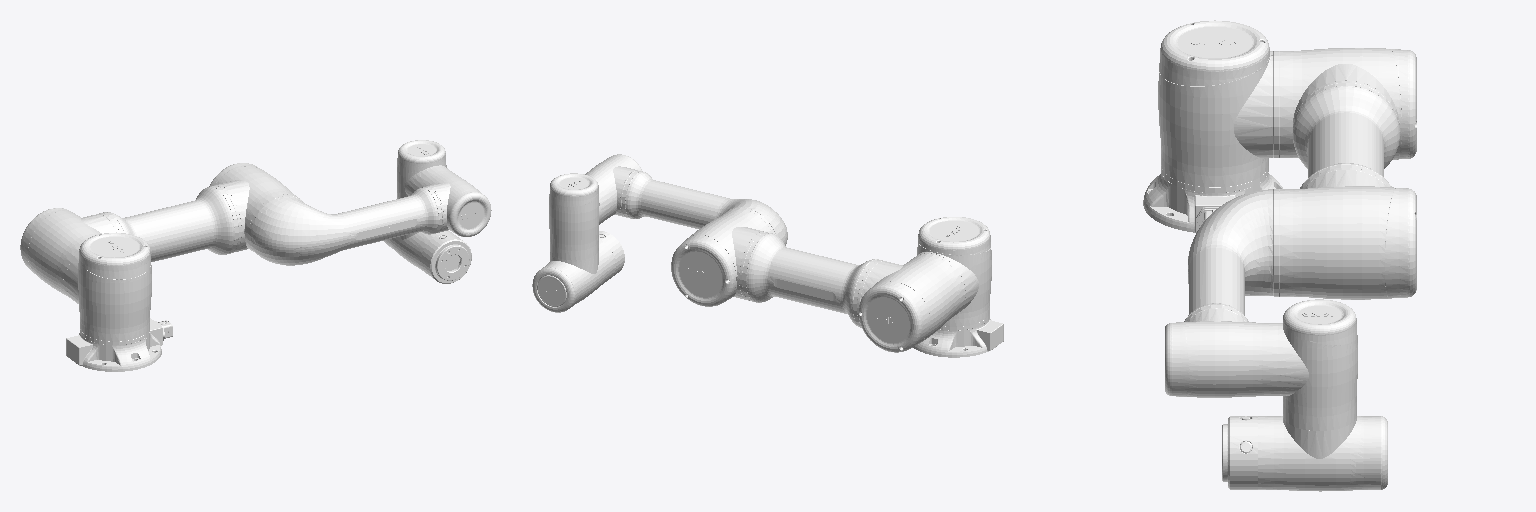
robot.urdf — jaka_description:
<?xml version="1.0" encoding="utf-8"?>
<!-- This URDF was automatically created by SolidWorks to URDF Exporter! Originally created by [author] ([email redacted]) 
     Commit Version: 1.5.1-0-g916b5db  Build Version: 1.5.7152.31018
     For more information, please see http://wiki.ros.org/sw_urdf_exporter -->
<robot
  name="jaka_description">
  <link
    name="base_link">
    <inertial>
      <origin
        xyz="0.0078045 0.02052 0.0017471"
        rpy="0 0 0" />
      <mass
        value="0.51461" />
      <inertia
        ixx="0.00062136"
        ixy="3.2169E-06"
        ixz="-3.6994E-09"
        iyy="0.0013529"
        iyz="1.2577E-10"
        izz="0.00086645" />
    </inertial>
    <visual>
      <origin
        xyz="0 0 0"
        rpy="0 0 0" />
      <geometry>
        <mesh
          filename="package://jaka_description/meshes/base_link.STL" />
      </geometry>
      <material
        name="">
        <color
          rgba="1 1 1 1" />
      </material>
    </visual>
    <collision>
      <origin
        xyz="0 0 0"
        rpy="0 0 0" />
      <geometry>
        <mesh
          filename="package://jaka_description/meshes/base_link.STL" />
      </geometry>
    </collision>
  </link>
  <link
    name="link1">
    <inertial>
      <origin
        xyz="0.0033217 0.078637 -9.9561E-07"
        rpy="0 0 0" />
      <mass
        value="1.9281" />
      <inertia
        ixx="0.0054895"
        ixy="1.9288E-06"
        ixz="-8.0735E-09"
        iyy="0.0038887"
        iyz="-1.0336E-08"
        izz="0.0056434" />
    </inertial>
    <visual>
      <origin
        xyz="0 0 0"
        rpy="0 0 0" />
      <geometry>
        <mesh
          filename="package://jaka_description/meshes/link1.STL" />
      </geometry>
      <material
        name="">
        <color
          rgba="1 1 1 1" />
      </material>
    </visual>
    <collision>
      <origin
        xyz="0 0 0"
        rpy="0 0 0" />
      <geometry>
        <mesh
          filename="package://jaka_description/meshes/link1.STL" />
      </geometry>
    </collision>
  </link>
  <joint
    name="joint1"
    type="continuous">
    <origin
      xyz="0.0068395 -0.0017473 0.040967"
      rpy="1.5708 0 1.5708" />
    <parent
      link="base_link" />
    <child
      link="link1" />
    <axis
      xyz="0 1 0" />
  </joint>
  <link
    name="link2">
    <inertial>
      <origin
        xyz="0.180000209977346 0.0790053241117423 1.81612678296084E-06"
        rpy="0 0 0" />
      <mass
        value="5.46194601044026" />
      <inertia
        ixx="0.012915357360266"
        ixy="-3.31771617532355E-08"
        ixz="-9.02794658605086E-09"
        iyy="0.0177711235371075"
        iyz="-2.29869349851466E-09"
        izz="0.0212789850441894" />
    </inertial>
    <visual>
      <origin
        xyz="0 0 0"
        rpy="0 0 0" />
      <geometry>
        <mesh
          filename="package://jaka_description/meshes/link2.STL" />
      </geometry>
      <material
        name="">
        <color
          rgba="1 1 1 1" />
      </material>
    </visual>
    <collision>
      <origin
        xyz="0 0 0"
        rpy="0 0 0" />
      <geometry>
        <mesh
          filename="package://jaka_description/meshes/link2.STL" />
      </geometry>
    </collision>
  </link>
  <joint
    name="joint2"
    type="continuous">
    <origin
      xyz="0.06407 0.08015 0"
      rpy="-3.1416 -1.5708 1.5708" />
<!--       rpy="-3.1416 0.61321 1.5708"-->
    <parent
      link="link1" />
    <child
      link="link2" />
    <axis
      xyz="0 -1 0" />
  </joint>
  <link
    name="link3">
    <inertial>
      <origin
        xyz="0.154631179365296 0.051491742581724 -9.87671775865007E-07"
        rpy="0 0 0" />
      <mass
        value="2.10990539238288" />
      <inertia
        ixx="0.002372120404392"
        ixy="-0.00148686871157693"
        ixz="1.61083887908488E-07"
        iyy="0.0128780808874665"
        iyz="1.06256446469924E-09"
        izz="0.0132375017255301" />
    </inertial>
    <visual>
      <origin
        xyz="0 0 0"
        rpy="0 0 0" />
      <geometry>
        <mesh
          filename="package://jaka_description/meshes/link3.STL" />
      </geometry>
      <material
        name="">
        <color
          rgba="1 1 1 1" />
      </material>
    </visual>
    <collision>
      <origin
        xyz="0 0 0"
        rpy="0 0 0" />
      <geometry>
        <mesh
          filename="package://jaka_description/meshes/link3.STL" />
      </geometry>
    </collision>
  </link>
  <joint
    name="joint3"
    type="continuous">
    <origin
      xyz="0.36 0 0"
      rpy="0 3.1415926 -3.1415926" />
    <parent
      link="link2" />
    <child
      link="link3" />
    <axis
      xyz="0 1 0" />
  </joint>
  <link
    name="link4">
    <inertial>
      <origin
        xyz="0.0427881295343883 -0.00580030295947631 -2.00896450974763E-07"
        rpy="0 0 0" />
      <mass
        value="0.707388000054209" />
      <inertia
        ixx="0.000872922108461203"
        ixy="5.07453713157777E-05"
        ixz="-1.05589941183124E-08"
        iyy="0.000659704928306989"
        iyz="1.157925987427E-09"
        izz="0.000903595145406074" />
    </inertial>
    <visual>
      <origin
        xyz="0 0 0"
        rpy="0 0 0" />
      <geometry>
        <mesh
          filename="package://jaka_description/meshes/link4.STL" />
      </geometry>
      <material
        name="">
        <color
          rgba="1 1 1 1" />
      </material>
    </visual>
    <collision>
      <origin
        xyz="0 0 0"
        rpy="0 0 0" />
      <geometry>
        <mesh
          filename="package://jaka_description/meshes/link4.STL" />
      </geometry>
    </collision>
  </link>
  <joint
    name="joint4"
    type="continuous">
    <origin
      xyz="0.303 -0.0054826 0"
      rpy="-1.5708 0 -1.5708" />
    <parent
      link="link3" />
    <child
      link="link4" />
    <axis
      xyz="-1 0 0" />
  </joint>
  <link
    name="link5">
    <inertial>
      <origin
        xyz="-0.0436288428352644 0.00288896862860181 -1.81856948805459E-07"
        rpy="0 0 0" />
      <mass
        value="0.806925581335565" />
      <inertia
        ixx="0.00160859857621588"
        ixy="5.47741545152081E-06"
        ixz="-2.28416053153104E-08"
        iyy="0.000744710609095292"
        iyz="5.43826453392794E-10"
        izz="0.00164590181184635" />
    </inertial>
    <visual>
      <origin
        xyz="0 0 0"
        rpy="0 0 0" />
      <geometry>
        <mesh
          filename="package://jaka_description/meshes/link5.STL" />
      </geometry>
      <material
        name="">
        <color
          rgba="1 1 1 1" />
      </material>
    </visual>
    <collision>
      <origin
        xyz="0 0 0"
        rpy="0 0 0" />
      <geometry>
        <mesh
          filename="package://jaka_description/meshes/link5.STL" />
      </geometry>
    </collision>
  </link>
  <joint
    name="joint5"
    type="continuous">
    <origin
      xyz="0.04546 -0.067529 0"
      rpy="3.1415926 0 1.5708" />
    <parent
      link="link4" />
    <child
      link="link5" />
    <axis
      xyz="-1 0 0" />
  </joint>
  <link
    name="link6">
    <inertial>
      <origin
        xyz="-1.97893143202288E-05 -0.0163465977451872 2.35599506187012E-05"
        rpy="0 0 0" />
      <mass
        value="0.180494526010387" />
      <inertia
        ixx="9.10588208598242E-05"
        ixy="7.56822704641209E-09"
        ixz="4.08010848564993E-07"
        iyy="0.000143814497302076"
        iyz="2.17936727532836E-07"
        izz="9.20388606659827E-05" />
    </inertial>
    <visual>
      <origin
        xyz="0 0 0"
        rpy="0 0 0" />
      <geometry>
        <mesh
          filename="package://jaka_description/meshes/link6.STL" />
      </geometry>
      <material
        name="">
        <color
          rgba="1 1 1 1" />
      </material>
    </visual>
    <collision>
      <origin
        xyz="0 0 0"
        rpy="0 0 0" />
      <geometry>
        <mesh
          filename="package://jaka_description/meshes/link6.STL" />
      </geometry>
    </collision>
  </link>
  <joint
    name="joint6"
    type="continuous">
    <origin
      xyz="-0.045971 -0.069408 0"
      rpy="0 -1.5708 0" />
    <parent
      link="link5" />
    <child
      link="link6" />
    <axis
      xyz="0 -1 0" />
  </joint>
</robot>

--- What the picture shows (computed from the rendered views, not written in the file) ---
The picture shows the robot from 3 angles, left to right: view 1: azimuth 30°, elevation 25°; view 2: azimuth 150°, elevation 25°; view 3: azimuth 270°, elevation 25°; orthographic projection.
Model jaka_description with 7 links and 6 joints (6 continuous), rooted at base_link, posed all joints at 0.
Visible links, largest first — view 1: link2, link3, link1, base_link, link6, link4, link5; view 2: link2, link3, link1, link4, link5, base_link; view 3: link2, link1, link3, link4, link5, base_link, link6.
Boxes of the visible links, left/top/right/bottom form: link2: left=20, top=163, right=300, bottom=300; link3: left=251, top=167, right=491, bottom=265; link1: left=66, top=233, right=151, bottom=344; base_link: left=66, top=318, right=172, bottom=371; link6: left=421, top=233, right=471, bottom=283; link4: left=397, top=140, right=447, bottom=198; link5: left=384, top=230, right=452, bottom=273; link2: left=671, top=207, right=965, bottom=352; link3: left=585, top=154, right=787, bottom=245; link1: left=917, top=217, right=991, bottom=330; link4: left=549, top=173, right=608, bottom=259; link5: left=532, top=240, right=615, bottom=312; base_link: left=913, top=318, right=1003, bottom=357; link2: left=1273, top=48, right=1416, bottom=299; link1: left=1158, top=20, right=1272, bottom=192; link3: left=1165, top=189, right=1277, bottom=397; link4: left=1278, top=299, right=1357, bottom=430; link5: left=1258, top=416, right=1387, bottom=491; base_link: left=1143, top=171, right=1282, bottom=232; link6: left=1222, top=416, right=1257, bottom=489.
Bounding box of the posed robot: 0.7872 × 0.3007 × 0.2332 m (x, y, z).
7 mesh visuals loaded from 7 distinct referenced files (7 binary STL).
